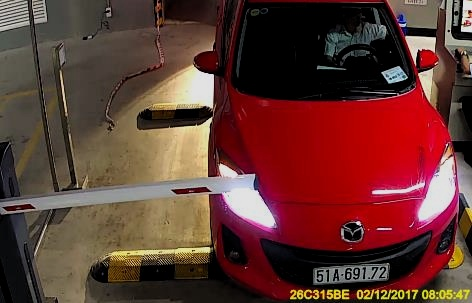plate: (309, 259, 388, 280)
